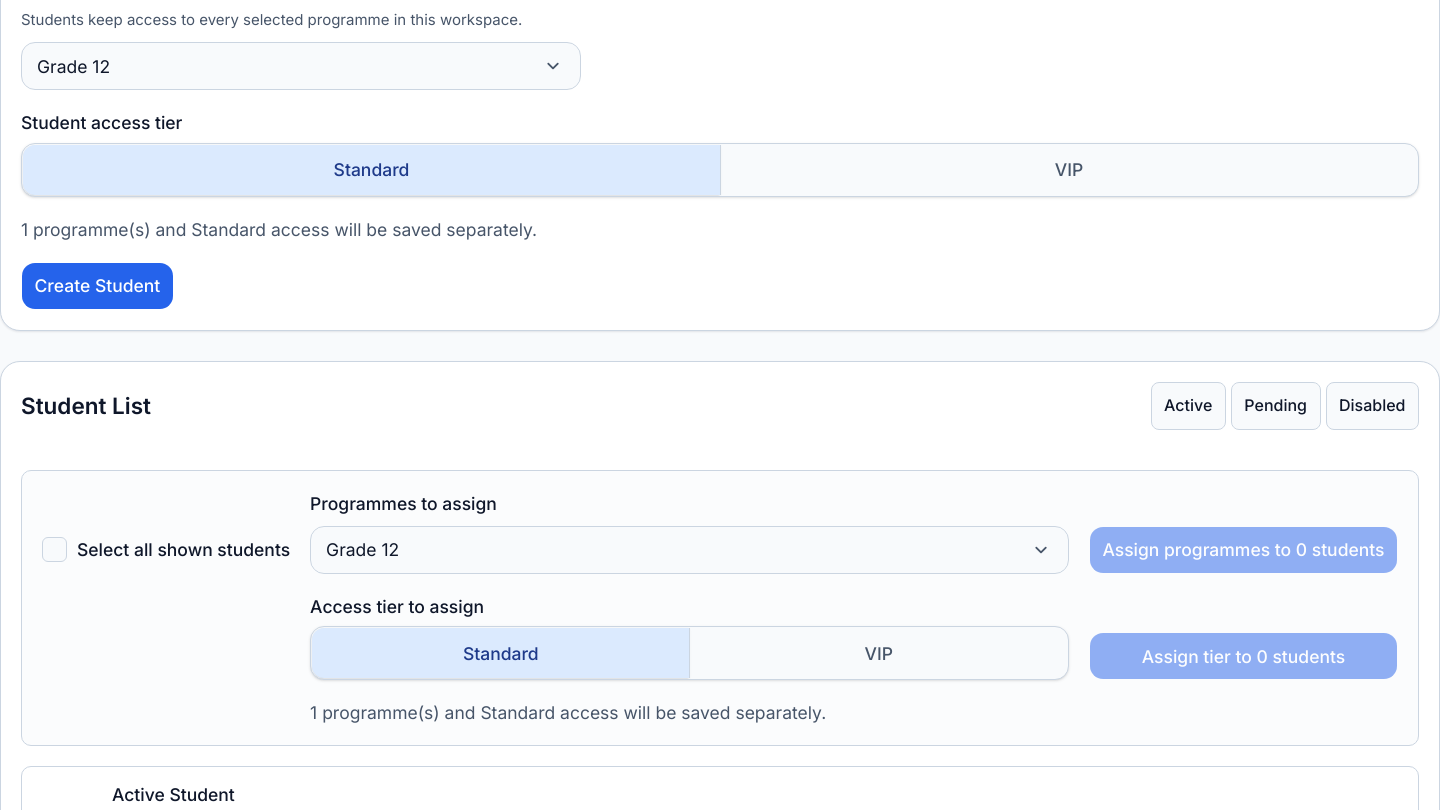
Scenario: TeacherStudentsPage › hides disabled students from the default list and shows them through the disabled filter
(page scrolled)
Expected: the text "Active Student" is shown, 112,784 -> 235,805
Expected: the text "Removed Student" is not shown
Step 1. Click the button "Disabled" → (1372, 406), box 1326,382 -> 1419,430
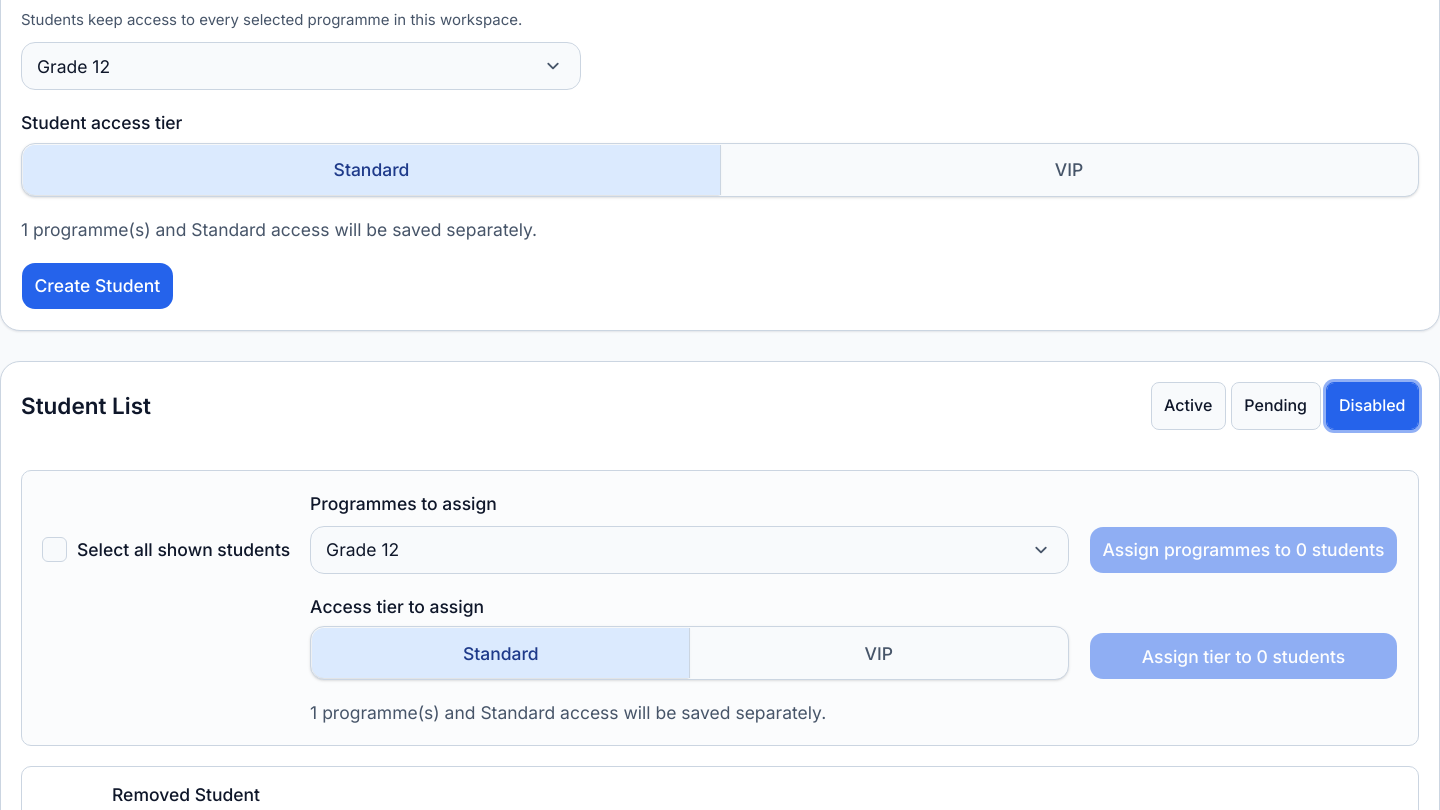
Expected: the text "Removed Student" is shown, 112,784 -> 260,805
